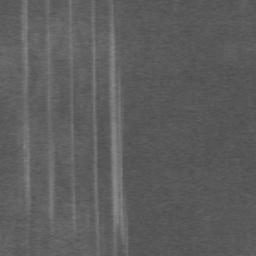Bright scratch: (110, 0, 129, 256), (22, 0, 31, 239), (47, 0, 54, 223), (92, 0, 98, 229), (69, 0, 75, 219)
